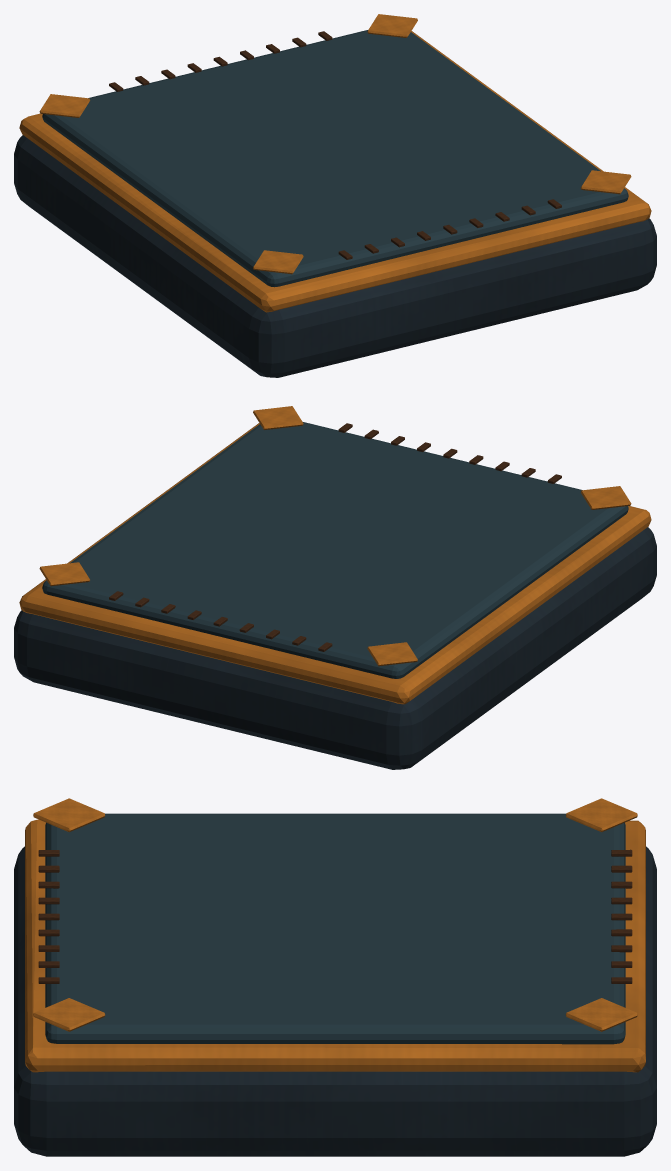
Rendered from tile_low.glb.
3 views of the same model, one above another, from view 1: azimuth 30°, elevation 25°; view 2: azimuth 150°, elevation 25°; view 3: azimuth 270°, elevation 25° (orthographic). The views are drawn at different scales.
Parts seen in each view (by area): view 1: Obsidian, Weathered_basalt, Brushed_gold, Patinated_bronze; view 2: Obsidian, Weathered_basalt, Brushed_gold, Patinated_bronze; view 3: Obsidian, Weathered_basalt, Brushed_gold, Patinated_bronze.
Part boxes in pixels (box(x1,y1,x2,y2)): Obsidian: box(42, 30, 628, 287); Weathered_basalt: box(14, 135, 656, 377); Brushed_gold: box(19, 14, 651, 312); Patinated_bronze: box(109, 31, 561, 259); Obsidian: box(42, 422, 628, 678); Weathered_basalt: box(14, 527, 656, 769); Brushed_gold: box(19, 406, 651, 704); Patinated_bronze: box(109, 423, 561, 651); Obsidian: box(45, 813, 625, 1044); Weathered_basalt: box(14, 846, 656, 1156); Brushed_gold: box(25, 798, 645, 1072); Patinated_bronze: box(38, 849, 632, 983).
Size of the model in its own units: 1.16 by 0.2887 by 1.28.
Materials: 4 (3 with a texture image).
